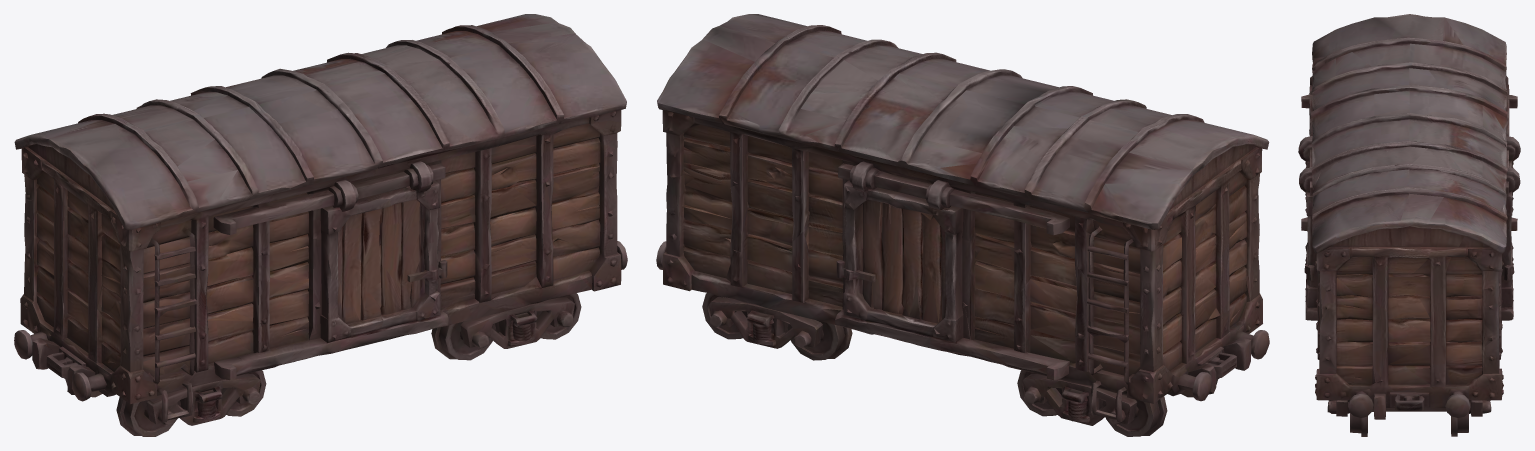
Rendered from train_freight.glb.
3 renders of one model, left to right at view 1: azimuth 30°, elevation 25°; view 2: azimuth 150°, elevation 25°; view 3: azimuth 270°, elevation 25°, orthographic. The views are drawn at different scales.
Parts seen in each view (by area): view 1: body, door_front; view 2: body, door_back; view 3: body, door_front, door_back.
Part boxes in pixels (x1,y1,x2,y2): body: (14, 14, 627, 436); door_front: (316, 165, 438, 338); body: (656, 14, 1269, 436); door_back: (845, 165, 967, 337); body: (1299, 14, 1519, 436); door_front: (1298, 144, 1312, 301); door_back: (1506, 136, 1520, 301).
Bounding box in the file's own units: 7 × 3.44 × 2.91.
3 materials, 1 textured.
